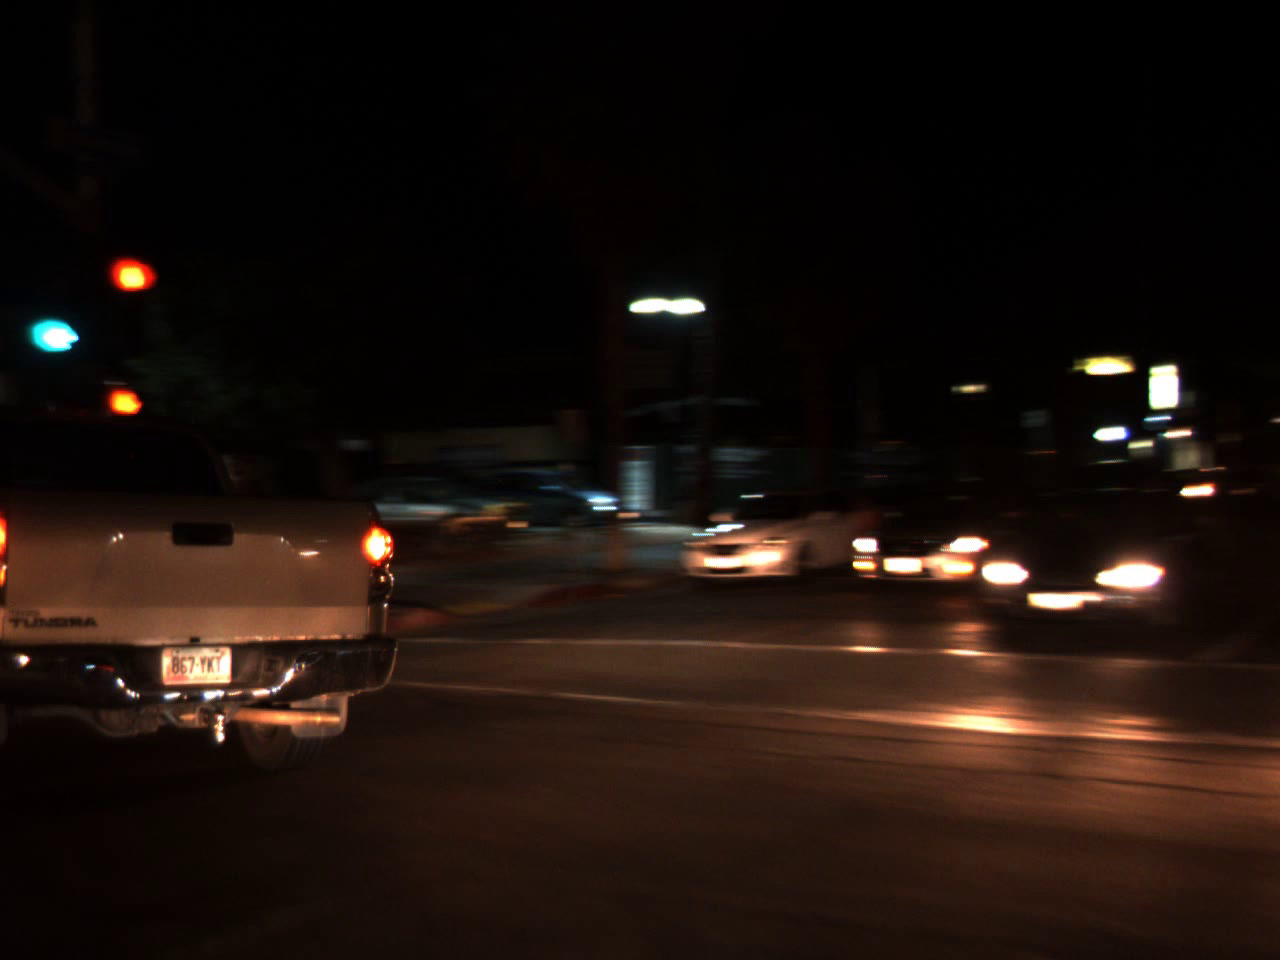go: (20, 288, 92, 363)
